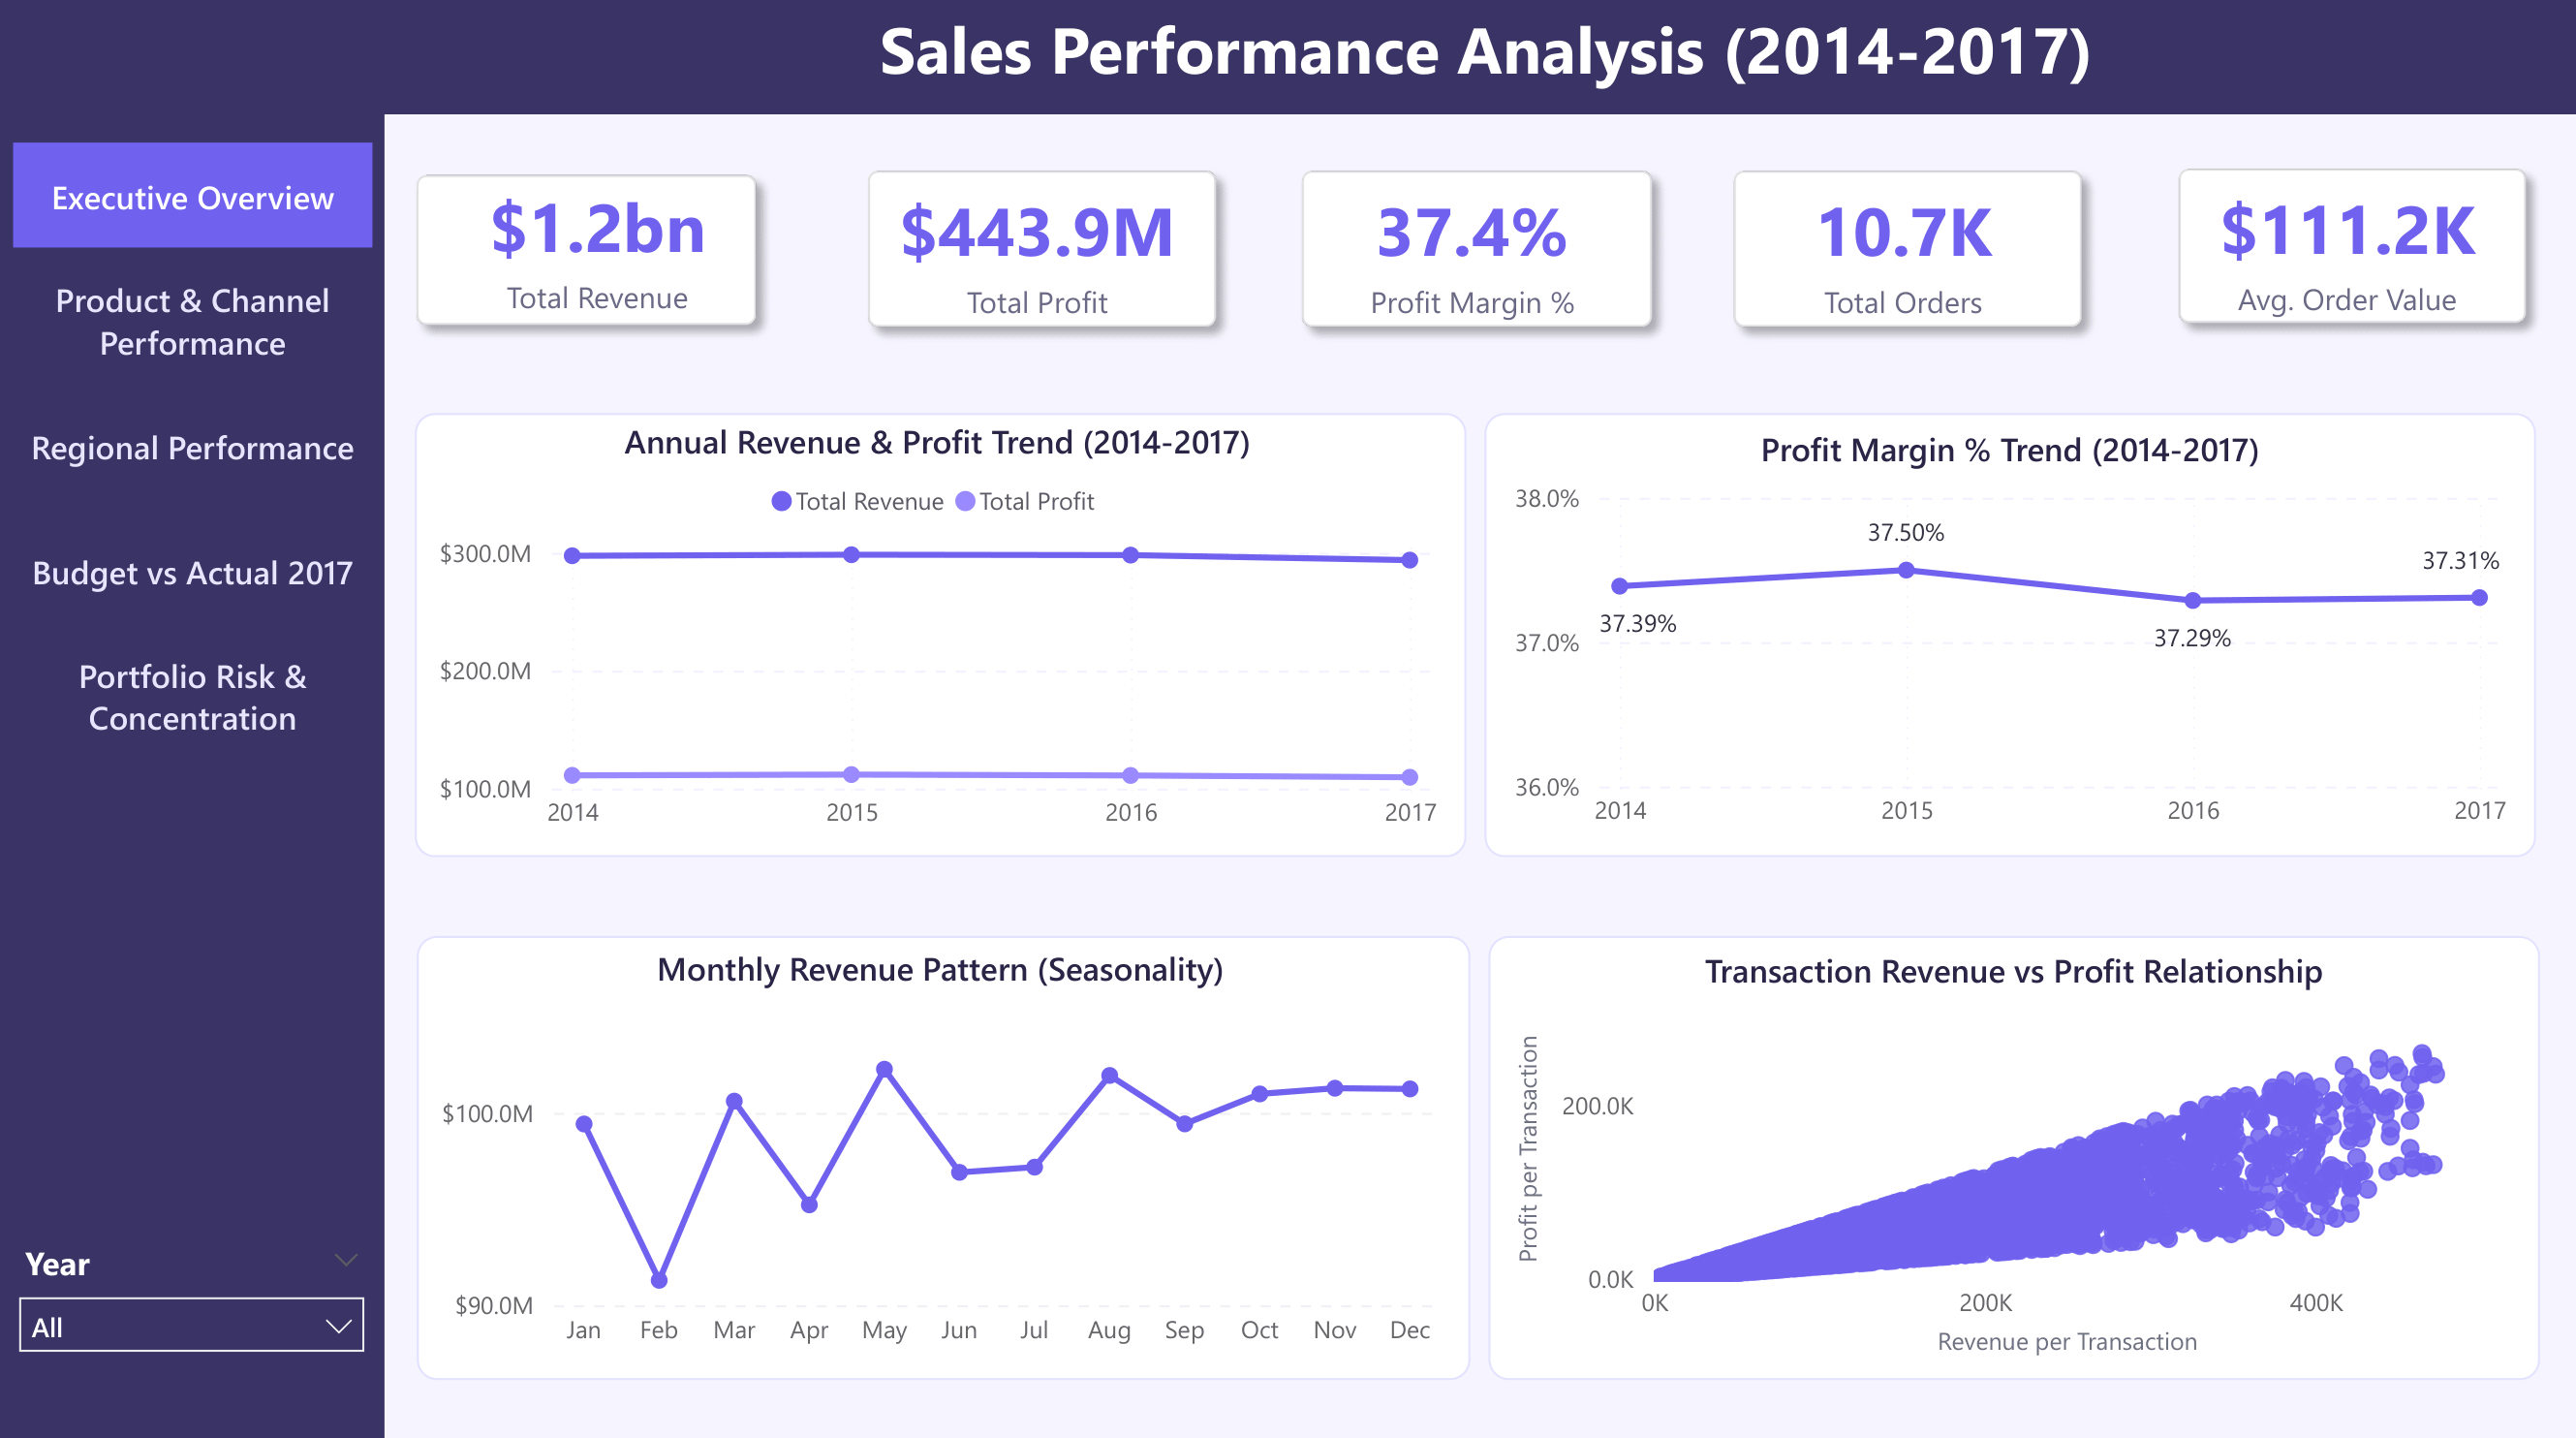

Layout of this report page (visuals, bound fields, positions):
{"tool":"powerbi","page":{"name":"Executive Overview","canvas":[1280,720],"ordinal":0},"visuals":[{"type":"shape","box":[737.8,467.3,521.4,220],"z":0},{"type":"shape","box":[207.1,466.7,521.4,220],"z":1000},{"type":"shape","box":[1071.2,77.9,190.2,94.3],"z":1002,"group":"g5"},{"type":"shape","box":[421.9,78.6,190.1,95],"z":1002,"group":"g2"},{"type":"shape","box":[636.7,78.6,190.8,95],"z":1002,"group":"g3"},{"type":"shape","box":[850.8,78.6,190.1,95],"z":1002,"group":"g4"},{"type":"shape","box":[198.1,80.9,186,92.2],"z":1002,"group":"g1"},{"type":"card","fields":{"Values":["_measures.Total Revenue"]},"box":[198.8,78.1,195,95],"z":1502,"group":"g1"},{"type":"card","fields":{"Values":["_measures.Revenue per Order"]},"box":[1066.3,78.5,195.1,95],"z":1502,"group":"g5"},{"type":"card","fields":{"Values":["_measures.Total Profit"]},"box":[417,79.2,195,95],"z":1502,"group":"g2"},{"type":"card","fields":{"Values":["_measures.Weighted Margin %"]},"box":[631.8,79.2,195.7,95],"z":1502,"group":"g3"},{"type":"card","fields":{"Values":["_measures.Total Orders"]},"box":[845.9,79.2,195,95],"z":1502,"group":"g4"},{"type":"shape","box":[735.7,207.6,521.4,220],"z":2000},{"type":"shape","box":[0,0,1280,60],"z":3000},{"type":"textbox","box":[424.3,0,625.7,58.6],"z":4000},{"type":"group","id":"g1","title":"Group 1","box":[198.1,78.1,195.7,95.7],"z":5000},{"type":"group","id":"g2","title":"Group 1","box":[417,78.6,195,95.6],"z":6000},{"type":"group","id":"g3","title":"Group 1","box":[631.8,78.6,195,95.7],"z":7000},{"type":"group","id":"g4","title":"Group 1","box":[845.9,78.6,195.7,95.7],"z":8000},{"type":"group","id":"g5","title":"Group 1","box":[1066.3,77.9,195.7,95.7],"z":9000},{"type":"shape","box":[205.7,208.1,521.4,220],"z":10000},{"type":"lineChart","title":"Annual Revenue & Profit Trend (2014-2017)","fields":{"Category":["calendar.year"],"Y":["_measures.Total Revenue","_measures.Total Profit"]},"box":[212.9,211,504.3,212.9],"z":11000},{"type":"lineChart","title":"Profit Margin % Trend (2014-2017)","fields":{"Category":["calendar.year"],"Y":["_measures.Weighted Margin %"]},"box":[745.7,214.7,501.4,208.6],"z":12000},{"type":"lineChart","title":"Monthly Revenue Pattern (Seasonality)","fields":{"Category":["calendar.month name"],"Y":["_measures.Total Revenue"]},"box":[214.3,472.4,504.3,207.1],"z":13000},{"type":"scatterChart","title":"Transaction Revenue vs Profit Relationship","fields":{"X":["Sum(fact_sales.revenue)"],"Y":["Sum(fact_sales.profit)"],"Category":["fact_sales.order_number"]},"box":[747.8,473,501.4,207.1],"z":14000},{"type":"shape","box":[0,59.4,191,659.4],"z":15000},{"type":"slicer","fields":{"Values":["calendar.year"]},"box":[0,612.9,191.4,71.4],"z":16000},{"type":"pageNavigator","box":[7.1,74.1,178.8,304.7],"z":17000}]}

Visuals, with their boxes in screenshot pixels (x1, y1, x2, y2), scaled from the page's 1280x720 canvas onto the 2576x1438 screenshot:
shape: region(1485, 933, 2534, 1373)
shape: region(417, 932, 1466, 1371)
shape: region(2156, 156, 2538, 344)
shape: region(849, 157, 1231, 347)
shape: region(1282, 157, 1665, 347)
shape: region(1712, 157, 2095, 347)
shape: region(399, 162, 773, 346)
card - _measures.Total Revenue: region(400, 156, 792, 346)
card - _measures.Revenue per Order: region(2146, 157, 2538, 347)
card - _measures.Total Profit: region(839, 158, 1231, 348)
card - _measures.Weighted Margin %: region(1271, 158, 1665, 348)
card - _measures.Total Orders: region(1702, 158, 2095, 348)
shape: region(1480, 415, 2529, 854)
shape: region(0, 0, 2575, 120)
textbox: region(853, 0, 2113, 117)
"Group 1" group: region(399, 156, 792, 347)
"Group 1" group: region(839, 157, 1231, 348)
"Group 1" group: region(1271, 157, 1664, 348)
"Group 1" group: region(1702, 157, 2096, 348)
"Group 1" group: region(2146, 156, 2540, 347)
shape: region(414, 416, 1463, 855)
"Annual Revenue & Profit Trend (2014-2017)" lineChart: region(428, 422, 1443, 847)
"Profit Margin % Trend (2014-2017)" lineChart: region(1501, 429, 2510, 845)
"Monthly Revenue Pattern (Seasonality)" lineChart: region(431, 944, 1446, 1358)
"Transaction Revenue vs Profit Relationship" scatterChart: region(1505, 945, 2514, 1359)
shape: region(0, 118, 385, 1436)
slicer - calendar.year: region(0, 1224, 386, 1366)
pageNavigator: region(15, 148, 374, 757)
